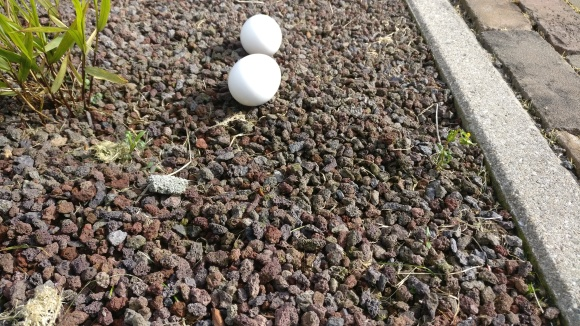egg: (227, 54, 281, 106), (240, 14, 283, 55)
